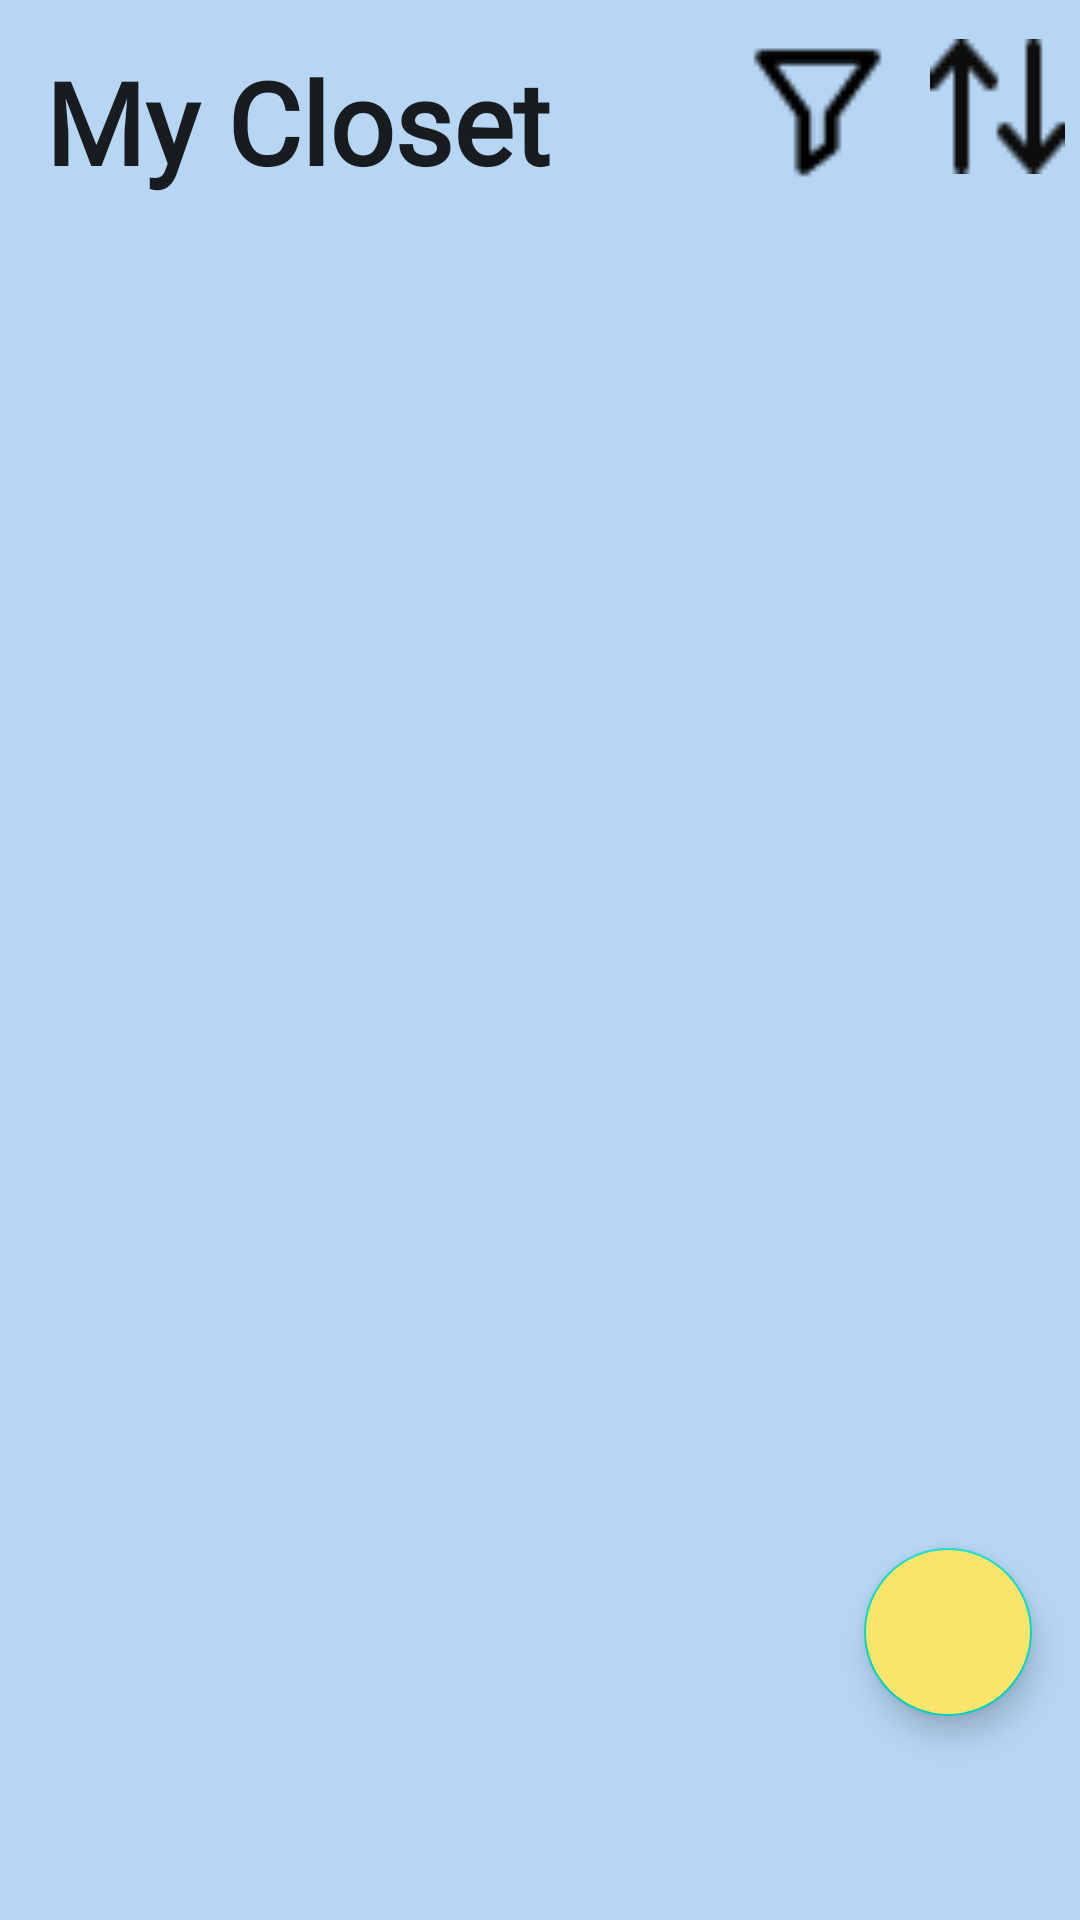

Named icons in this screenshot (1080 x 1920) and their centers, [x,y]:
Filter: [817,112]
Sort: [997,106]
